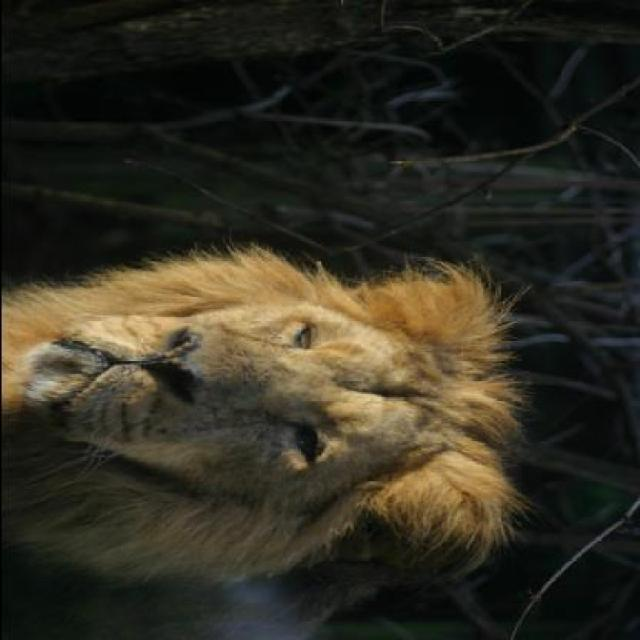Lion: (2, 238, 524, 610)
